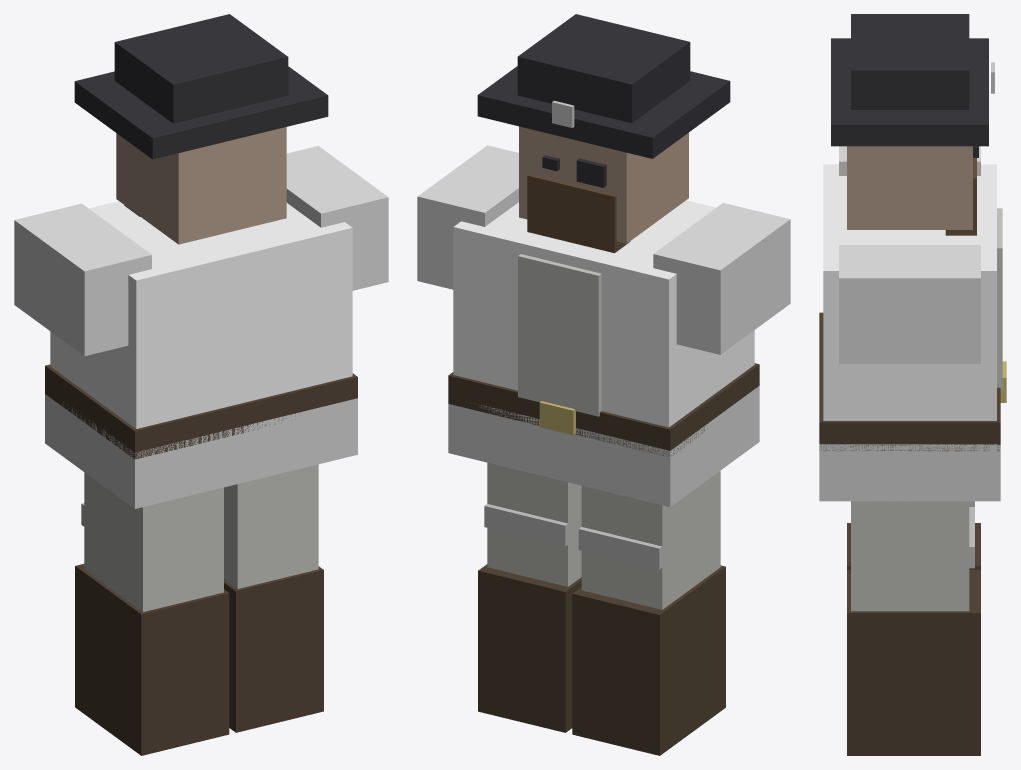
The model's file is PIRATE.gltf.
3 renders of one model, left to right at view 1: azimuth 30°, elevation 25°; view 2: azimuth 150°, elevation 25°; view 3: azimuth 270°, elevation 25°, orthographic.
Parts seen in each view (by area): view 1: PIRATE; view 2: PIRATE; view 3: PIRATE.
Boxes of the visible parts, x1=… form: PIRATE: x1=14, y1=14, x2=388, y2=755; PIRATE: x1=417, y1=14, x2=790, y2=755; PIRATE: x1=819, y1=14, x2=1006, y2=755.
Bounding box in the file's own units: 0.9 × 1.87 × 0.475.
